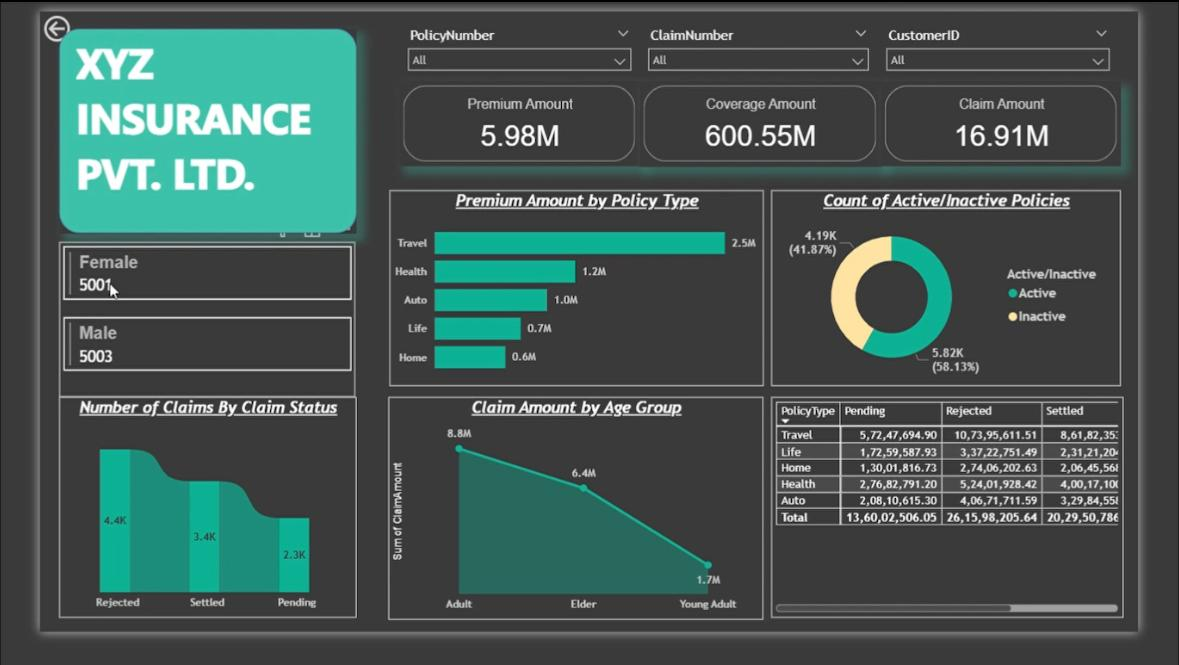

This screenshot's page, from the dashboard's own definition file:
{"tool":"powerbi","page":{"name":"Page 1","canvas":[1280,720],"ordinal":0},"visuals":[{"type":"slicer","fields":{"Values":["InsuranceData.PolicyNumber"]},"box":[418.6,12.9,280,68.6],"z":0},{"type":"slicer","fields":{"Values":["InsuranceData.ClaimNumber"]},"box":[698.6,12.9,277.1,68.6],"z":1000},{"type":"slicer","fields":{"Values":["InsuranceData.CustomerID"]},"box":[975.7,12.9,280,68.6],"z":2000},{"type":"cardVisual","fields":{"Data":["Sum(InsuranceData.PremiumAmount)"]},"box":[418.6,81.4,280,98.6],"z":3000},{"type":"cardVisual","fields":{"Data":["Sum(InsuranceData.CoverageAmount)"]},"box":[698.8,81.4,281.4,98.8],"z":4000},{"type":"cardVisual","fields":{"Data":["Sum(InsuranceData.ClaimAmount)"]},"box":[980,81.4,280,98.6],"z":5000},{"type":"multiRowCard","fields":{"Values":["InsuranceData.Gender","CountNonNull(InsuranceData.Gender)"]},"box":[22,268,346,180],"z":6000},{"type":"actionButton","box":[0,0,100,40],"z":7000},{"type":"ribbonChart","title":"Number of Claims By Claim Status","fields":{"Category":["InsuranceData.ClaimStatus"],"Y":["CountNonNull(InsuranceData.ClaimStatus)"]},"box":[22,448,346,256],"z":8000},{"type":"barChart","title":"Premium Amount by Policy Type","fields":{"Category":["InsuranceData.PolicyType"],"Y":["Sum(InsuranceData.PremiumAmount)"]},"box":[407.1,207.1,435.7,227.1],"z":9000},{"type":"lineChart","title":"Claim Amount by Age Group","fields":{"Category":["InsuranceData.Age Group"],"Y":["Sum(InsuranceData.ClaimAmount)"]},"box":[406,448,437,258],"z":10000},{"type":"donutChart","title":"Count of Active/Inactive Policies","fields":{"Category":["InsuranceData.Active/Inactive"],"Y":["CountNonNull(InsuranceData.Active/Inactive)"]},"box":[853,207,407,227],"z":11000},{"type":"pivotTable","fields":{"Values":["Sum(InsuranceData.CoverageAmount)"],"Rows":["InsuranceData.PolicyType"],"Columns":["InsuranceData.ClaimStatus"]},"box":[853,448,410,256],"z":12000},{"type":"shape","box":[22.1,19.8,346.5,237.2],"z":13000},{"type":"textbox","box":[37.2,20.9,294.2,217.4],"z":14000}]}

Visuals, with their boxes in screenshot pixels (x1, y1, x2, y2), scaled from the page's 1280x720 canvas onto the 1179x665 screenshot:
slicer - InsuranceData.PolicyNumber: (386, 12, 643, 75)
slicer - InsuranceData.ClaimNumber: (643, 12, 899, 75)
slicer - InsuranceData.CustomerID: (899, 12, 1157, 75)
cardVisual - Sum(InsuranceData.PremiumAmount): (386, 75, 643, 166)
cardVisual - Sum(InsuranceData.CoverageAmount): (644, 75, 903, 166)
cardVisual - Sum(InsuranceData.ClaimAmount): (903, 75, 1161, 166)
multiRowCard - InsuranceData.Gender x CountNonNull(InsuranceData.Gender): (20, 248, 339, 414)
actionButton: (0, 0, 92, 37)
"Number of Claims By Claim Status" ribbonChart: (20, 414, 339, 650)
"Premium Amount by Policy Type" barChart: (375, 191, 776, 401)
"Claim Amount by Age Group" lineChart: (374, 414, 776, 652)
"Count of Active/Inactive Policies" donutChart: (786, 191, 1161, 401)
pivotTable - Sum(InsuranceData.CoverageAmount) x InsuranceData.PolicyType: (786, 414, 1163, 650)
shape: (20, 18, 340, 237)
textbox: (34, 19, 305, 220)
